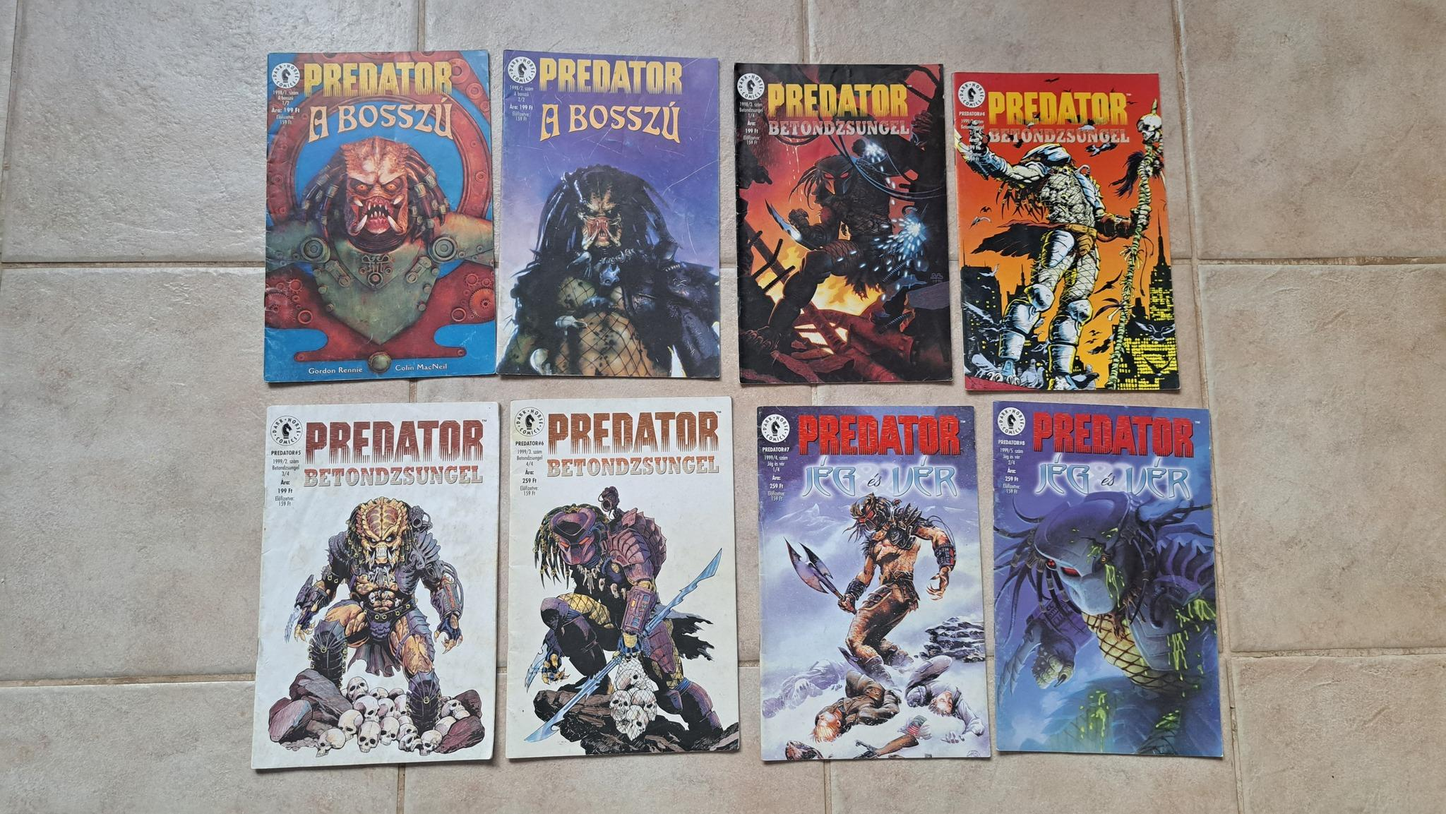comic: (252, 398, 501, 773), (502, 397, 738, 758), (757, 403, 990, 760), (993, 401, 1222, 757), (260, 50, 496, 381), (950, 63, 1179, 400), (499, 50, 722, 377), (733, 59, 955, 384)
